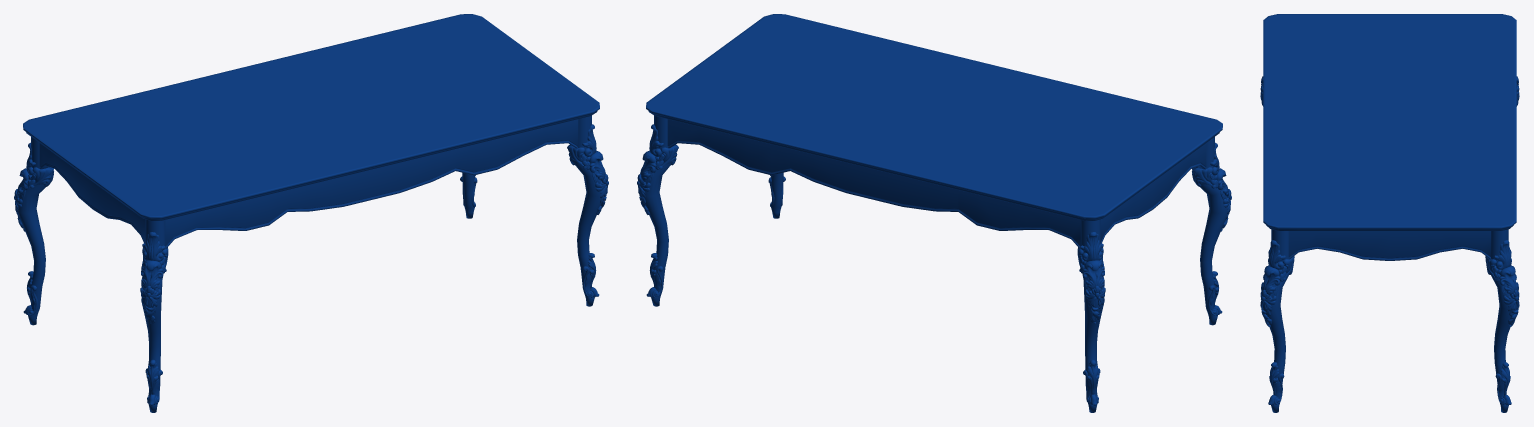
File: table.obj
3 renders of one model, left to right at view 1: azimuth 30°, elevation 25°; view 2: azimuth 150°, elevation 25°; view 3: azimuth 270°, elevation 25°, orthographic. The views are drawn at different scales.
Visible parts, largest first — view 1: Object3352; view 2: Object3352; view 3: Object3352.
Part boxes in pixels (x1,y1,x2,y2): Object3352: (14,14,608,412); Object3352: (637,14,1231,412); Object3352: (1260,14,1519,412).
Bounding box in the file's own units: 2011 × 825 × 1021.
